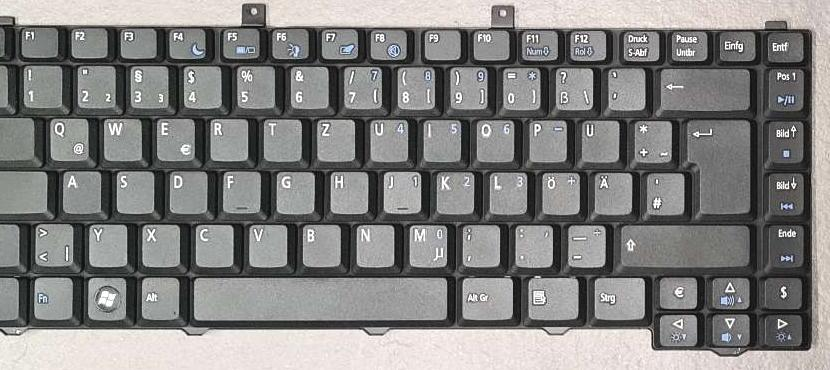0: (499, 65, 543, 112)
1: (20, 63, 64, 111)
2: (74, 63, 118, 111)
3: (127, 63, 171, 111)
4: (180, 64, 223, 110)
5: (233, 64, 277, 111)
6: (287, 64, 331, 111)
7: (341, 65, 383, 110)
8: (394, 65, 437, 112)
9: (448, 65, 490, 112)
a: (60, 169, 103, 215)
accent: (605, 66, 647, 112)
ae: (591, 171, 634, 217)
alt-left: (138, 276, 181, 322)
altgr-right: (458, 275, 515, 322)
b: (298, 222, 343, 269)
c: (192, 222, 236, 269)
caret: (1, 63, 23, 110)
comma: (459, 222, 501, 269)
d: (166, 169, 209, 215)
del: (655, 66, 751, 112)
e: (154, 116, 197, 164)
enter: (682, 117, 755, 219)
f: (220, 169, 262, 215)
g: (274, 170, 316, 215)
h: (327, 170, 371, 215)
hash: (643, 171, 686, 218)
i: (420, 117, 464, 163)
j: (381, 169, 422, 214)
k: (434, 170, 475, 216)
keyboard: (1, 21, 816, 352)
l: (486, 170, 529, 216)
less: (32, 221, 76, 269)
m: (406, 222, 450, 269)
minus: (565, 223, 607, 269)
n: (353, 222, 396, 269)
o: (473, 117, 516, 164)
oe: (539, 171, 581, 216)
p: (525, 118, 569, 164)
plus: (631, 117, 673, 165)
point: (512, 223, 555, 269)
q: (47, 116, 91, 163)
r: (207, 117, 250, 163)
s: (113, 169, 156, 215)
shift-left: (1, 222, 29, 269)
shift-lock: (1, 168, 50, 214)
shift-right: (615, 222, 754, 269)
space: (190, 276, 450, 323)
ss: (553, 66, 594, 112)
strg-left: (1, 276, 31, 324)
strg-right: (588, 275, 647, 322)
t: (261, 117, 304, 163)
tab: (1, 116, 36, 162)
u: (368, 117, 411, 164)
ue: (577, 117, 621, 165)
v: (246, 222, 289, 269)
w: (100, 116, 145, 163)
x: (139, 222, 181, 269)
y: (86, 222, 129, 269)
z: (314, 117, 357, 163)
